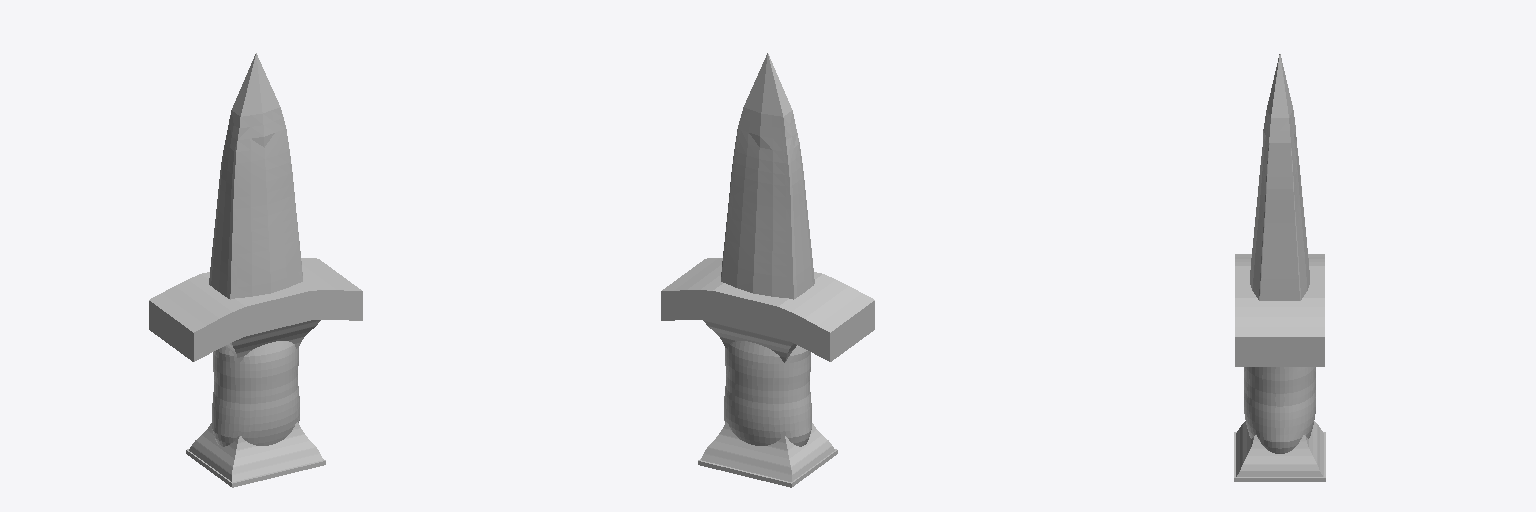
The model's file is highPoly_Knife.obj.
3 renders of one model, left to right at view 1: azimuth 30°, elevation 25°; view 2: azimuth 150°, elevation 25°; view 3: azimuth 270°, elevation 25°, orthographic.
Parts seen in each view (by area): view 1: Blade, handle, Grip, Grip_Bot, Grip_Top, handleBot; view 2: Blade, handle, Grip, Grip_Bot, Grip_Top, handleBot; view 3: Blade, handle, Grip, Grip_Bot, handleBot.
Boxes of the visible parts, <box> form: Blade: <box>209,53,302,299</box>; handle: <box>149,258,362,361</box>; Grip: <box>212,341,299,446</box>; Grip_Bot: <box>189,422,322,481</box>; Grip_Top: <box>227,320,320,362</box>; handleBot: <box>186,449,325,487</box>; Blade: <box>721,53,814,299</box>; handle: <box>661,258,874,361</box>; Grip: <box>724,341,811,446</box>; Grip_Bot: <box>701,422,834,481</box>; Grip_Top: <box>703,320,796,362</box>; handleBot: <box>698,449,837,487</box>; Blade: <box>1250,54,1309,300</box>; handle: <box>1235,254,1324,366</box>; Grip: <box>1244,367,1315,453</box>; Grip_Bot: <box>1236,421,1323,476</box>; handleBot: <box>1234,432,1325,481</box>.
Size of the model in its own units: 23.54 by 53.94 by 11.15.